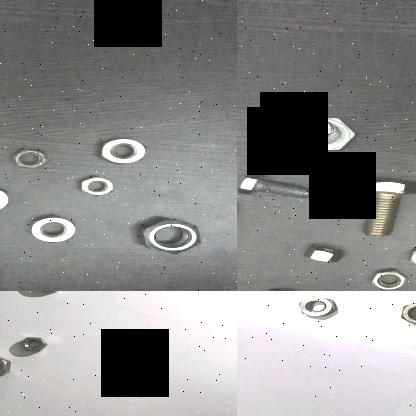Bolts: (344, 173, 416, 237), (288, 107, 360, 152), (237, 169, 326, 197)
NUTS: (130, 212, 210, 254), (94, 131, 150, 167), (20, 212, 78, 244), (5, 143, 56, 169), (302, 238, 350, 263), (295, 293, 339, 317), (368, 266, 410, 291), (74, 172, 120, 194), (249, 282, 309, 291), (398, 297, 416, 327), (0, 186, 19, 214), (17, 334, 47, 350), (404, 244, 416, 268), (0, 352, 10, 377)
